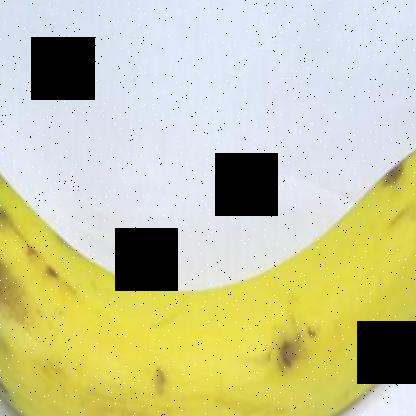freshripe: (1, 119, 415, 415)
